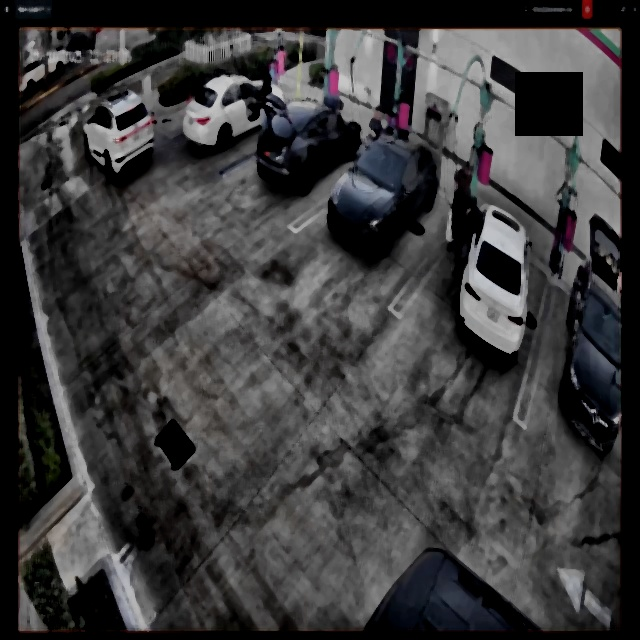Car: (329, 126, 440, 255), (452, 187, 530, 360), (260, 92, 359, 199), (183, 68, 284, 156), (79, 90, 156, 181)
